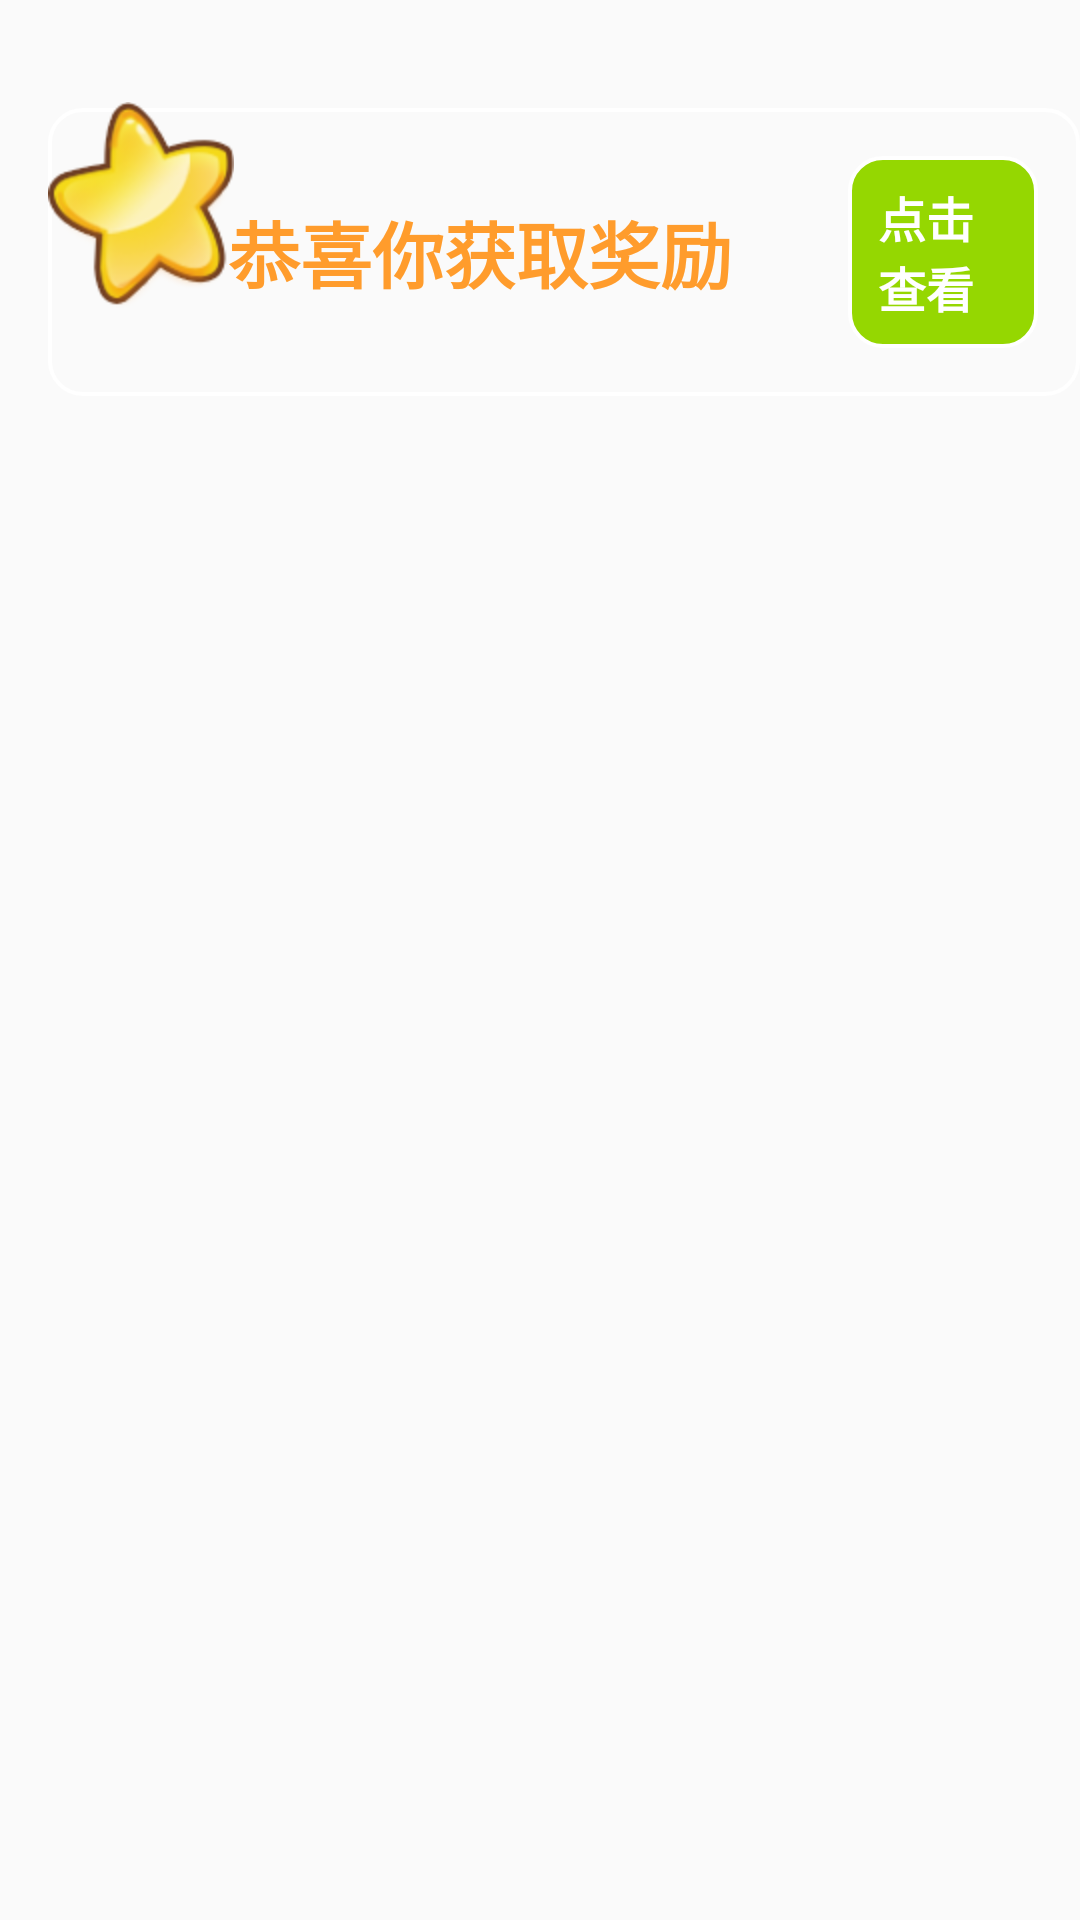

Icon click points for this 1080px x 1920px phone screenshot, format [x,y]:
mesage star: [141,203]
